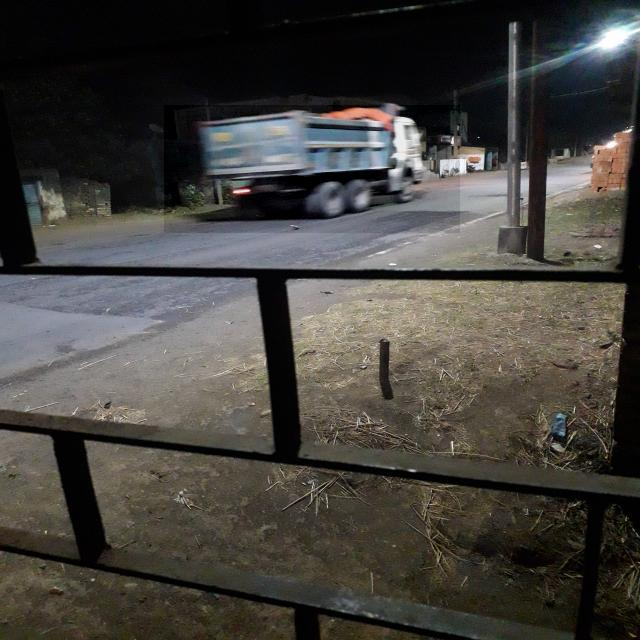Truck: (164, 105, 460, 233)
